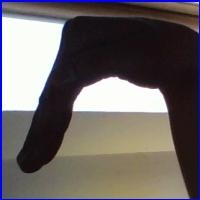A: (15, 12, 183, 176)
